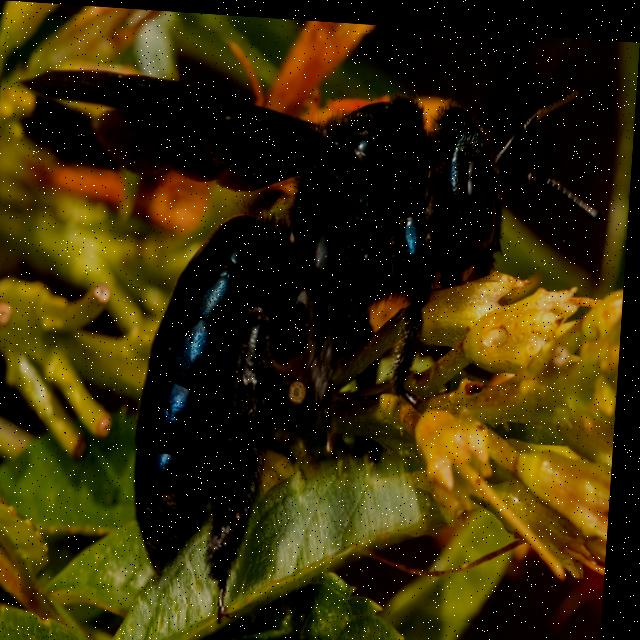Xylocopa: (0, 9, 613, 621)
